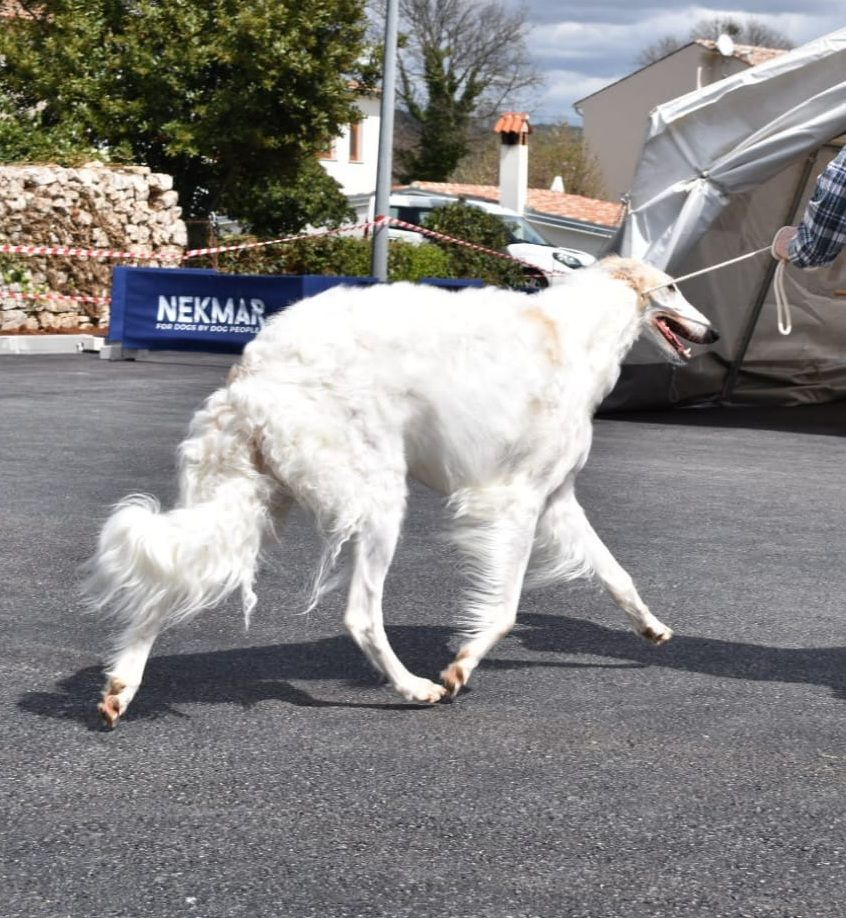borzoi: (46, 241, 748, 742)
